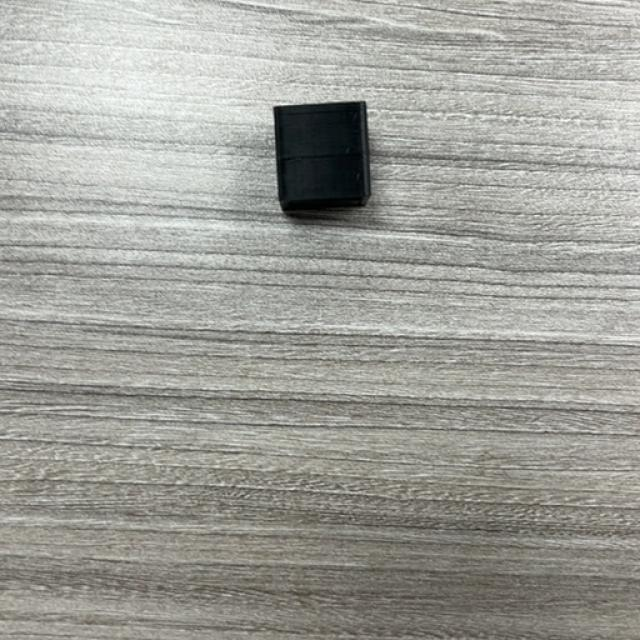Negro: (274, 101, 371, 214)
